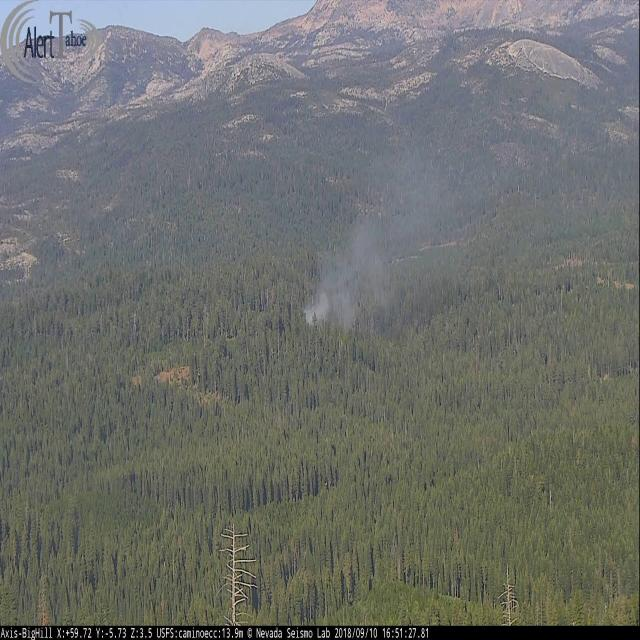smoke: (300, 86, 518, 322)
